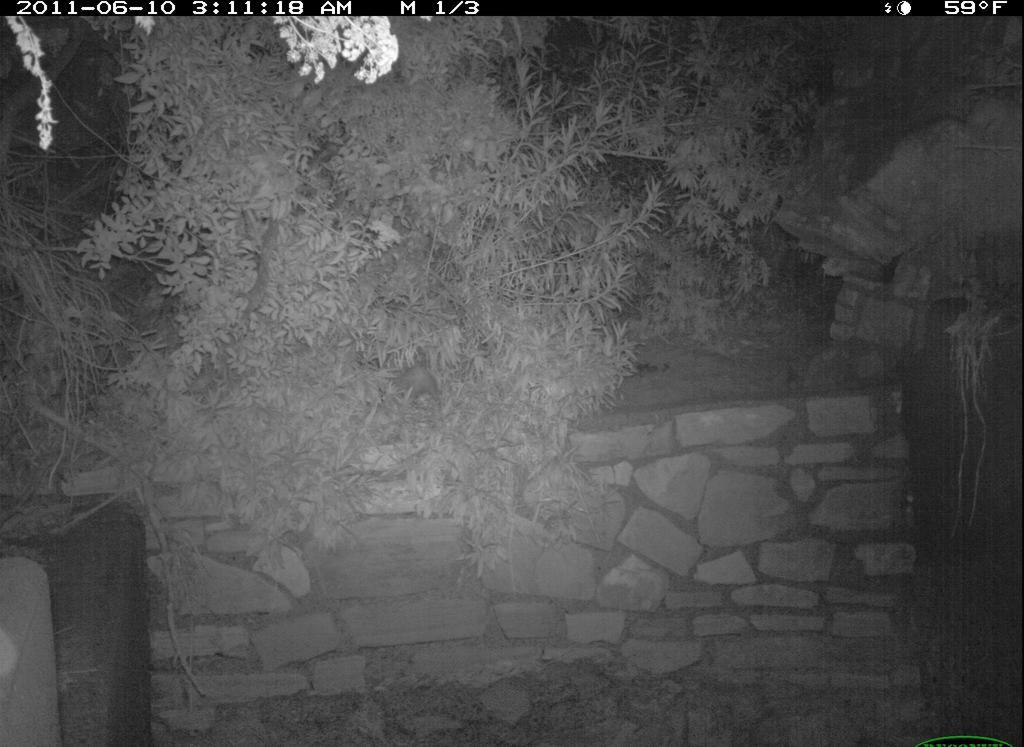opossum: (385, 359, 452, 429)
